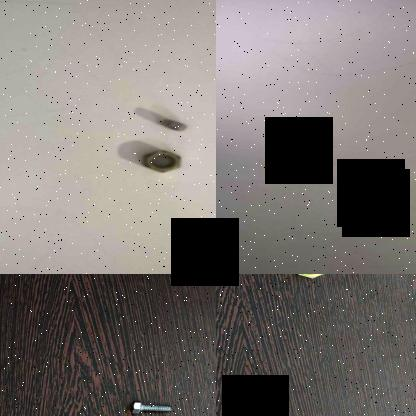Bolts: (127, 396, 176, 416), (294, 274, 328, 279)
NUTS: (136, 146, 192, 172), (157, 110, 194, 136)
